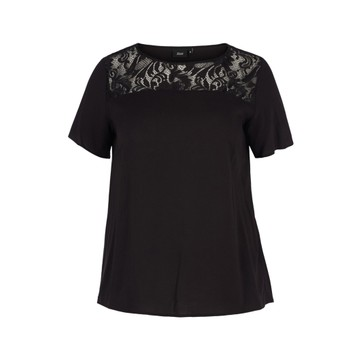S_short blouse: (64, 39, 305, 320)
